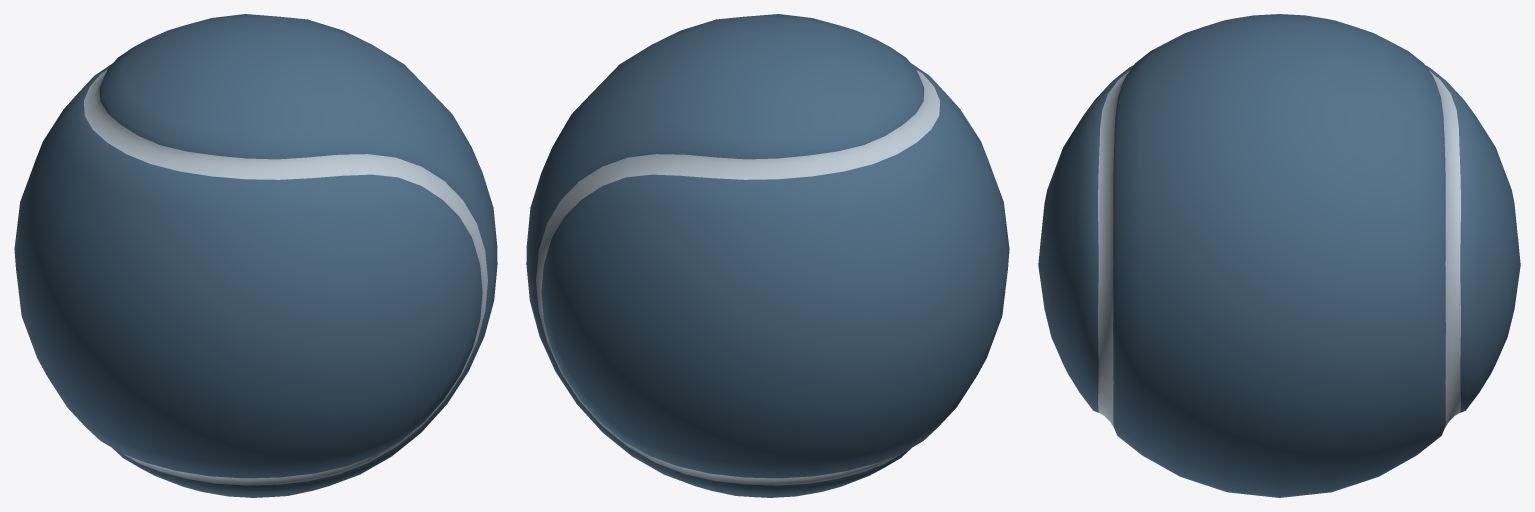
The model's file is ball.glb.
The picture shows the model from 3 angles, left to right: view 1: azimuth 30°, elevation 25°; view 2: azimuth 150°, elevation 25°; view 3: azimuth 270°, elevation 25°; orthographic projection.
Parts seen in each view (by area): view 1: balle_main; view 2: balle_main; view 3: balle_main.
Boxes of the visible parts, left/top/right/bottom form: balle_main: left=14, top=14, right=497, bottom=497; balle_main: left=526, top=14, right=1009, bottom=497; balle_main: left=1038, top=14, right=1520, bottom=497.
Bounding box in the file's own units: 7.63 × 7.6 × 7.6.
